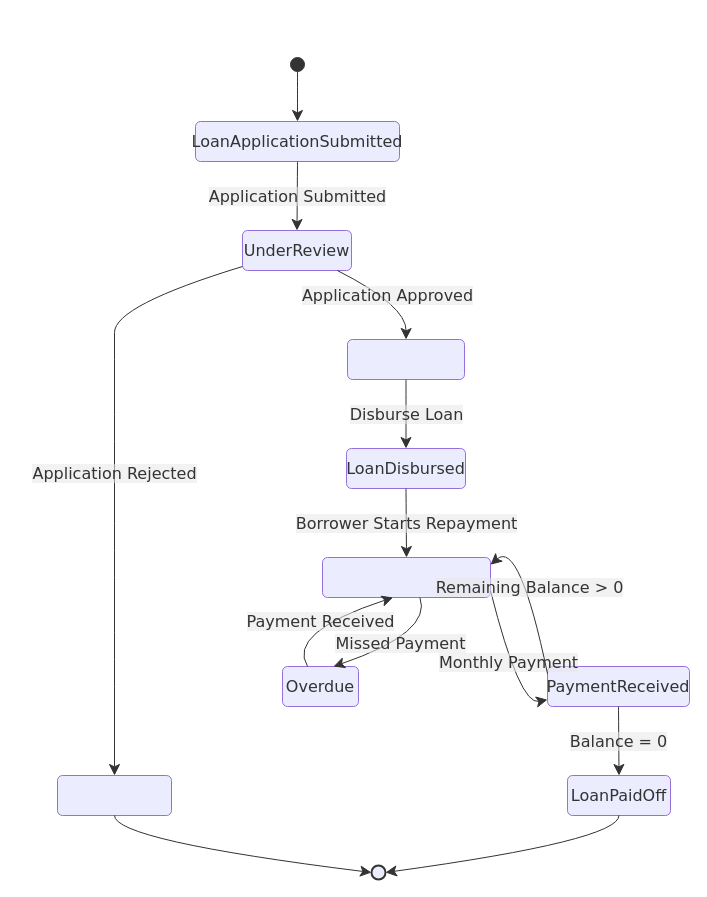
The diagram is 707 pixels wide and 897 high, and some of its shapes have lost their labels. The centre of each missing label's shape, as x and y in pixels:
"LoanApproved" goes at pixel 405 359.
"LoanRejected" goes at pixel 114 795.
"RepaymentInProgress" goes at pixel 406 577.
